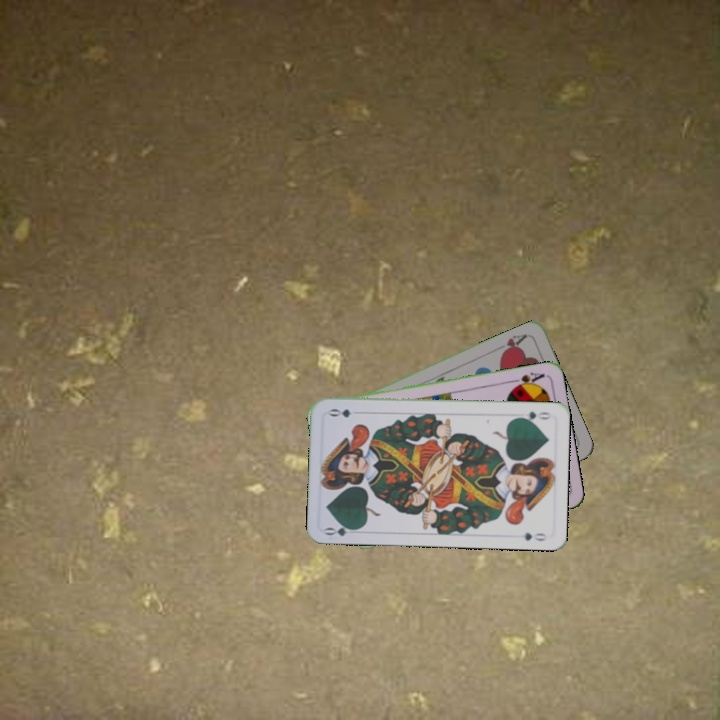GO: (321, 520, 362, 539), (513, 407, 554, 424)
HA: (498, 330, 530, 357)
SA: (507, 368, 547, 391)
